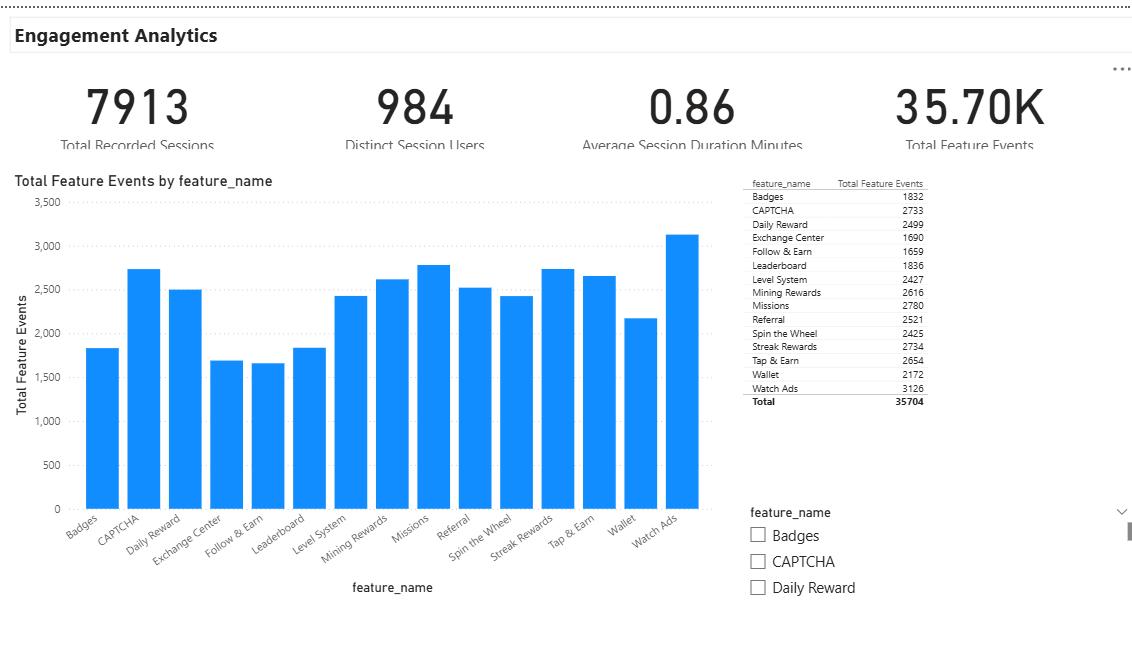

What the dashboard file says about the page in this screenshot:
{"tool":"powerbi","page":{"name":"3. Engagement Analytics","canvas":[1280,720],"ordinal":2},"visuals":[{"type":"unknown","box":[20,20,1240,60],"z":1000},{"type":"unknown","box":[20,90,280,130],"z":1001},{"type":"unknown","box":[320,90,280,130],"z":1002},{"type":"unknown","box":[620,90,300,130],"z":1003},{"type":"unknown","box":[940,90,320,130],"z":1004},{"type":"unknown","box":[20,230,780,460],"z":1005},{"type":"unknown","box":[820,230,440,460],"z":1006}]}

Visuals, with their boxes on the page's 1280x720 design canvas (x1, y1, x2, y2). These are canvas units, not pixel positions in the 1132x662 screenshot, which may show the page scaled, cropped or inside an application window:
unknown: 20, 20, 1260, 80
unknown: 20, 90, 300, 220
unknown: 320, 90, 600, 220
unknown: 620, 90, 920, 220
unknown: 940, 90, 1260, 220
unknown: 20, 230, 800, 690
unknown: 820, 230, 1260, 690
